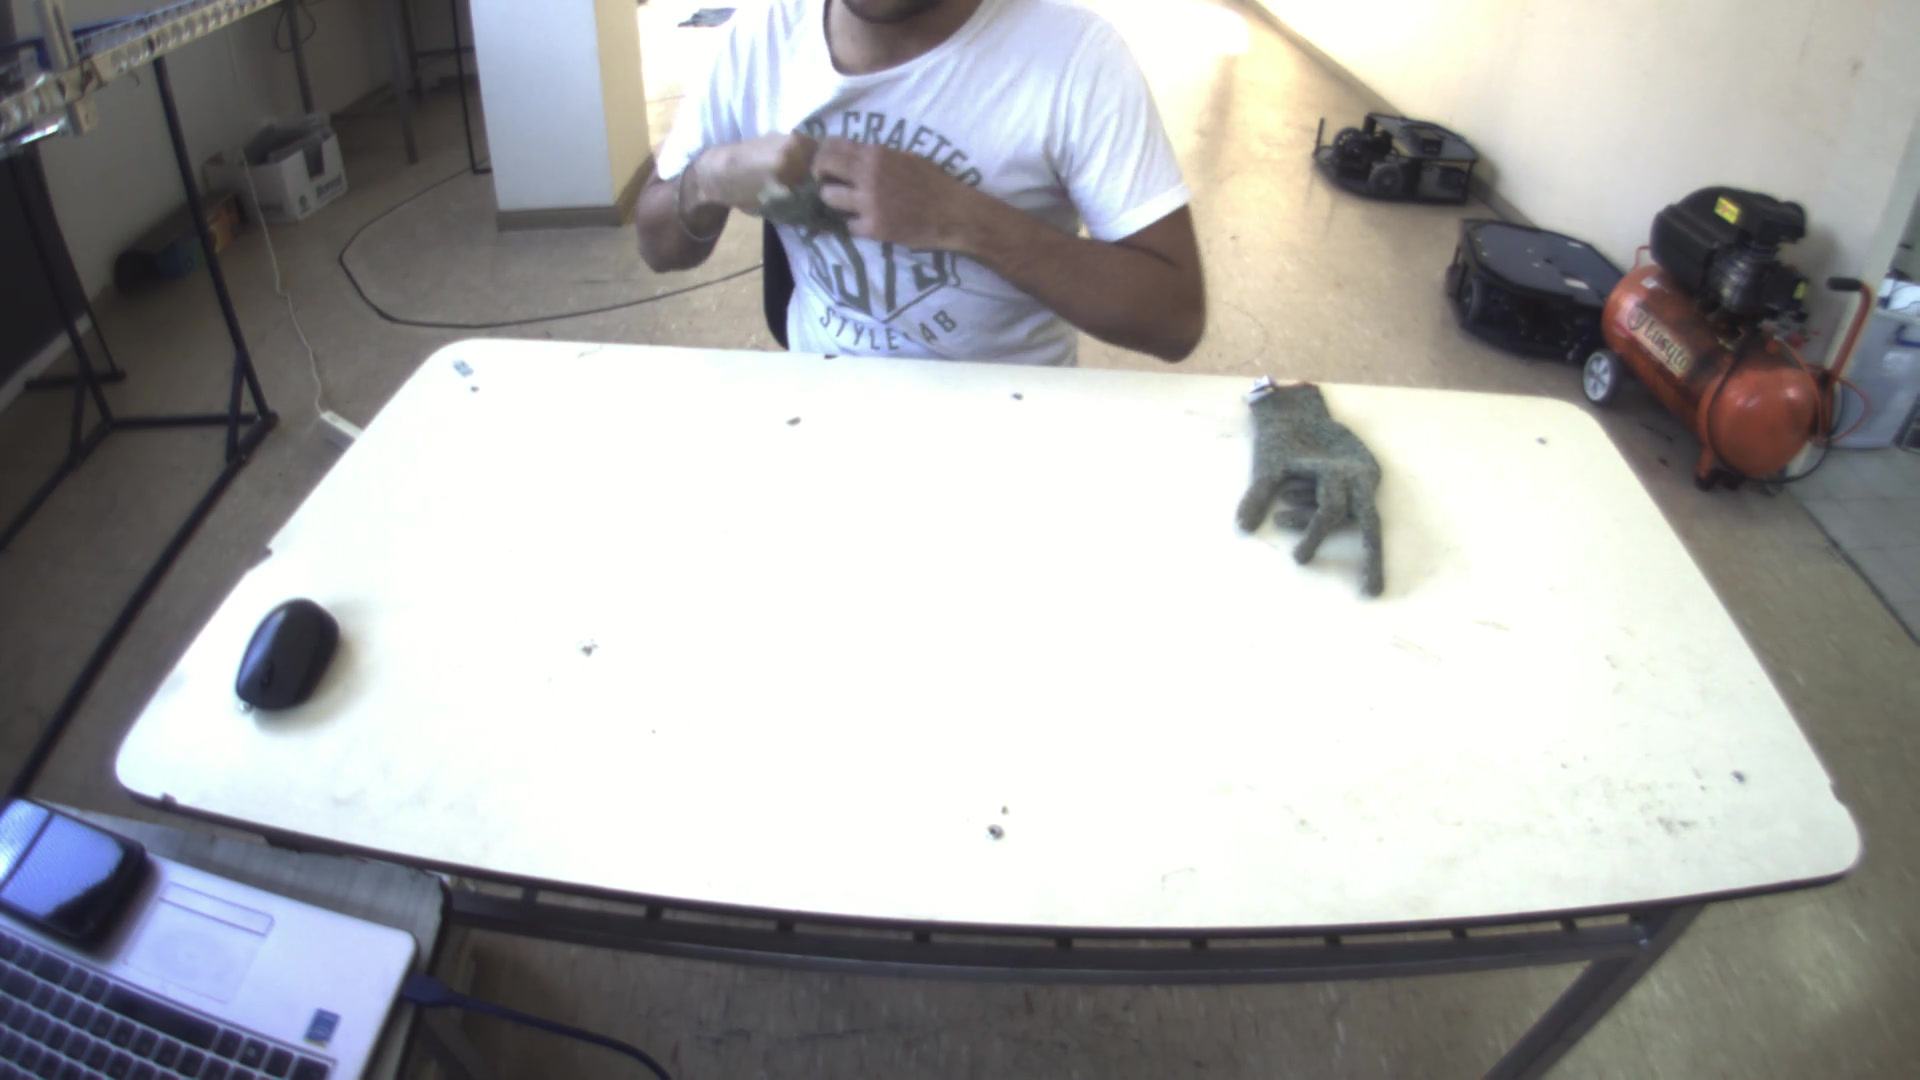hand: (807, 131, 996, 252)
